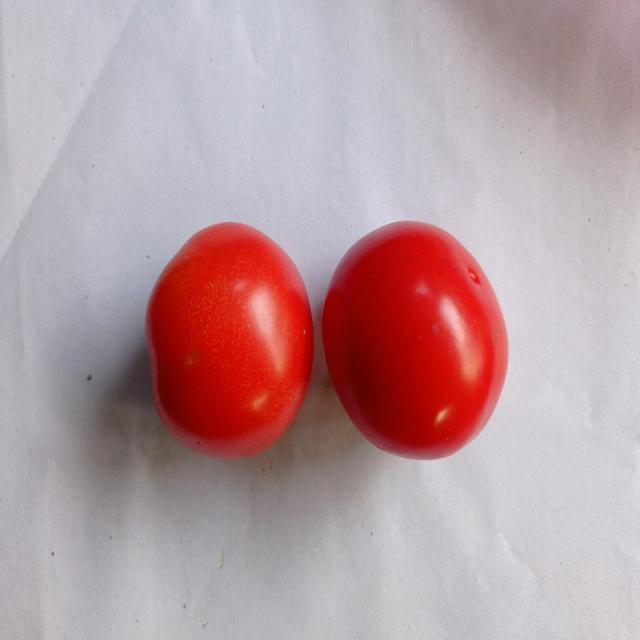Ripe: (315, 217, 513, 460), (141, 216, 319, 464)
